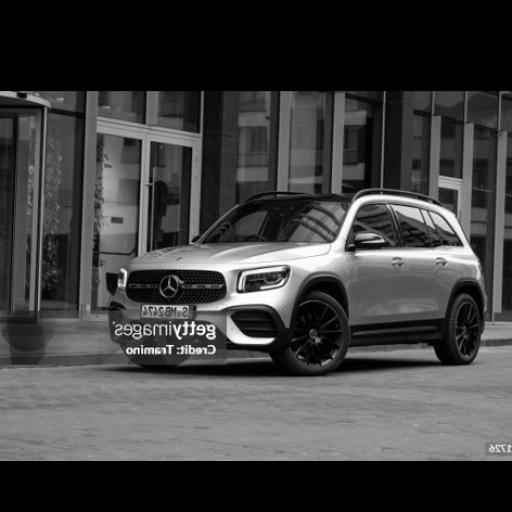suv: (111, 189, 488, 373)
